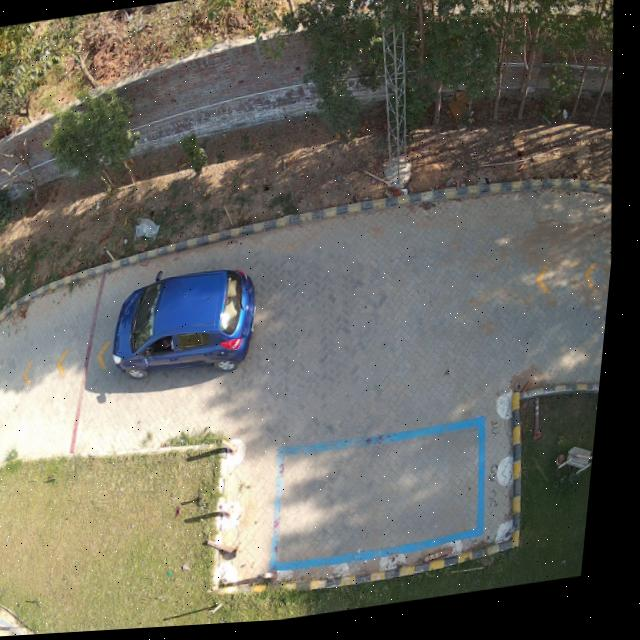car: (119, 272, 262, 381)
